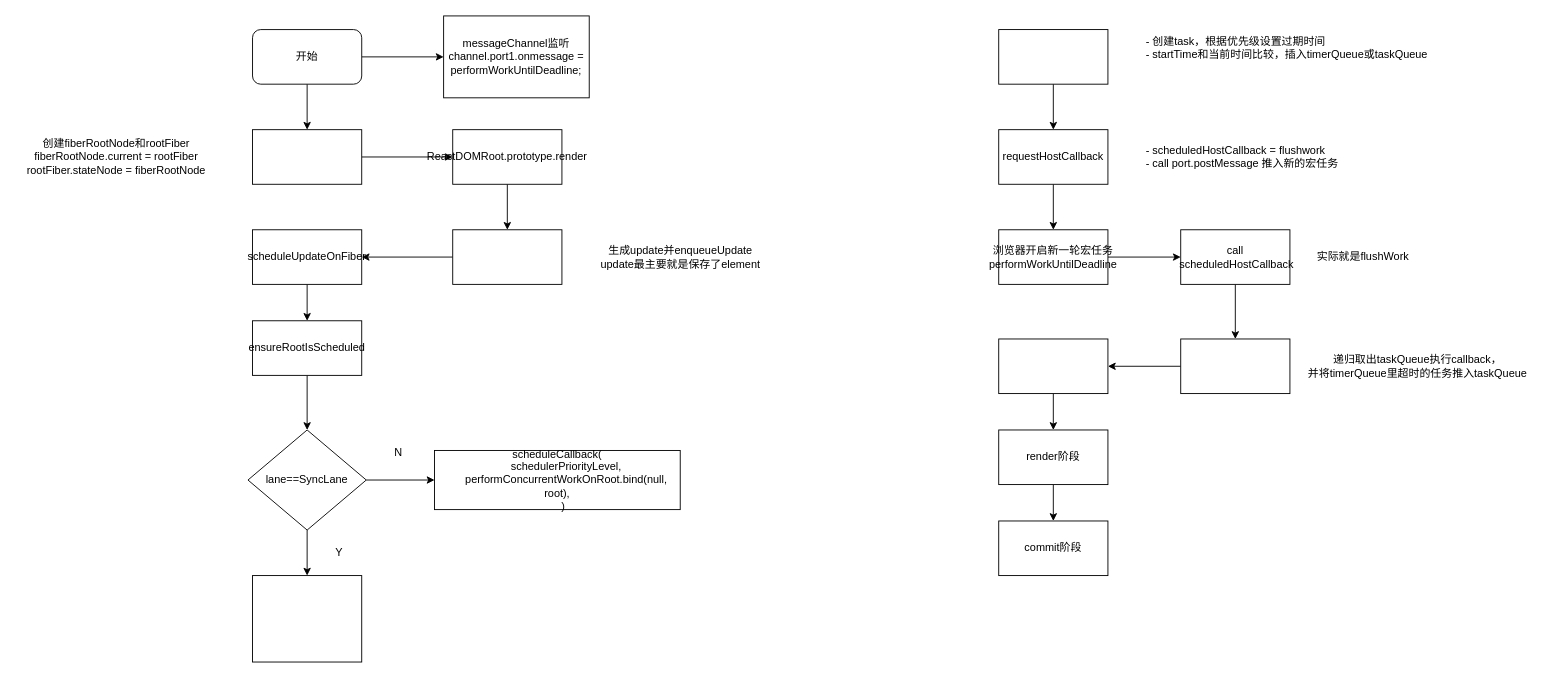
Image size: 1551x678. Some labels were removed from this diagram. Here are the shapes that lost their labels. From the top down, the centre of each, then its label:
[1053,56]: unstable_scheduleCallback
[307,156]: createRoot
[507,256]: updateContainer
[1053,366]: 执行callback： performConcurrentWorkOnRoot
[1235,366]: workloop
[307,618]: scheduleSyncCallback(performSyncWorkOnRoot.bind(null, root));
